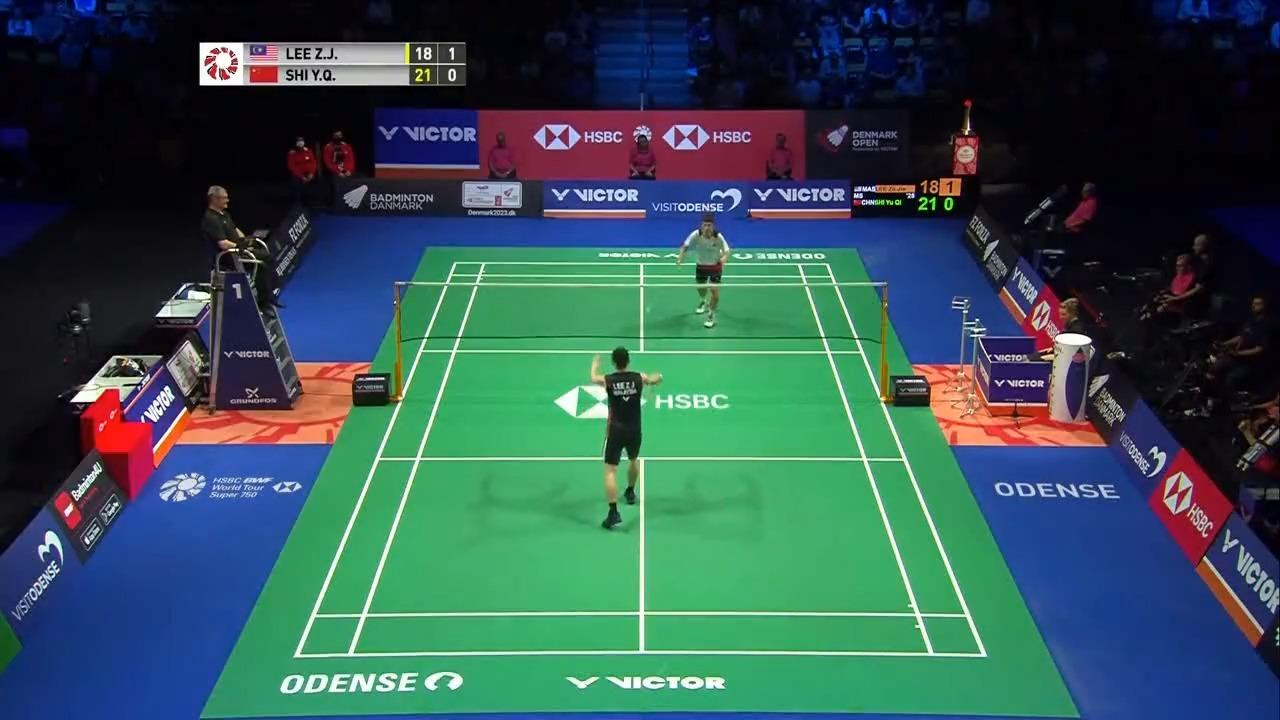shuttle: (645, 306, 655, 316)
